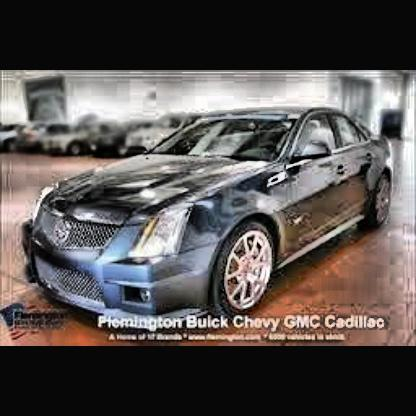Cadillac CTS-V Sedan 2012: (22, 107, 397, 329)
